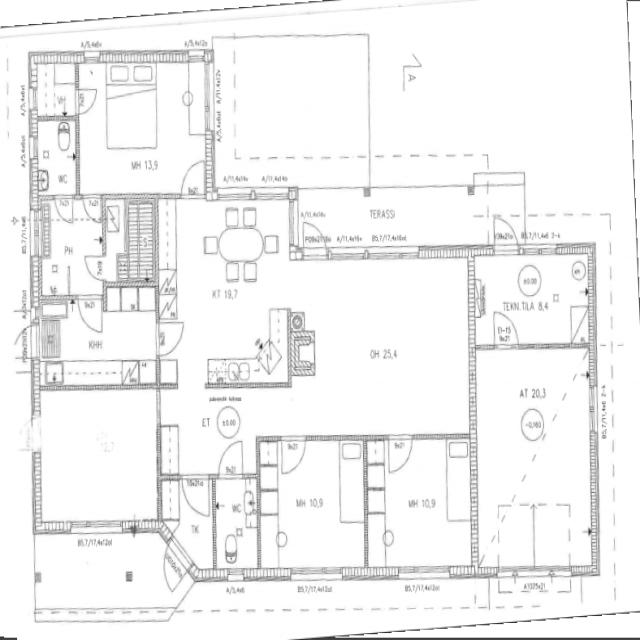door: (213, 475, 260, 575), (181, 471, 212, 520), (155, 316, 187, 358), (215, 438, 245, 482), (178, 157, 208, 200), (300, 218, 328, 263), (491, 214, 520, 257), (492, 309, 521, 350), (76, 293, 104, 335), (386, 434, 414, 476), (280, 436, 307, 478), (16, 416, 40, 451), (81, 252, 108, 282), (13, 323, 36, 358), (53, 192, 75, 225), (74, 86, 98, 116), (82, 192, 104, 224), (25, 85, 38, 113)
window: (30, 117, 78, 200), (288, 564, 345, 584), (67, 518, 127, 536), (397, 563, 449, 583), (366, 245, 419, 264), (328, 246, 369, 264), (216, 185, 254, 204), (587, 379, 599, 438), (202, 60, 214, 119), (252, 186, 290, 203), (523, 242, 559, 258), (27, 132, 38, 165), (226, 568, 247, 584), (25, 85, 37, 113)
zone: (462, 347, 598, 579), (293, 256, 474, 418), (161, 199, 293, 389), (230, 34, 370, 181), (30, 389, 161, 529), (76, 60, 210, 196), (259, 440, 368, 574), (368, 439, 476, 573), (474, 252, 594, 349), (39, 302, 160, 391), (37, 195, 105, 302), (104, 195, 158, 285), (212, 476, 260, 577), (32, 118, 78, 198), (31, 59, 77, 121), (534, 508, 572, 572), (30, 202, 50, 258)
